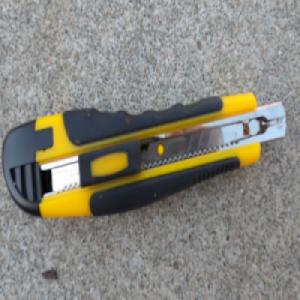Cutter: (2, 89, 287, 221)
